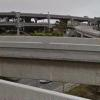Bridge: (2, 6, 97, 83)
